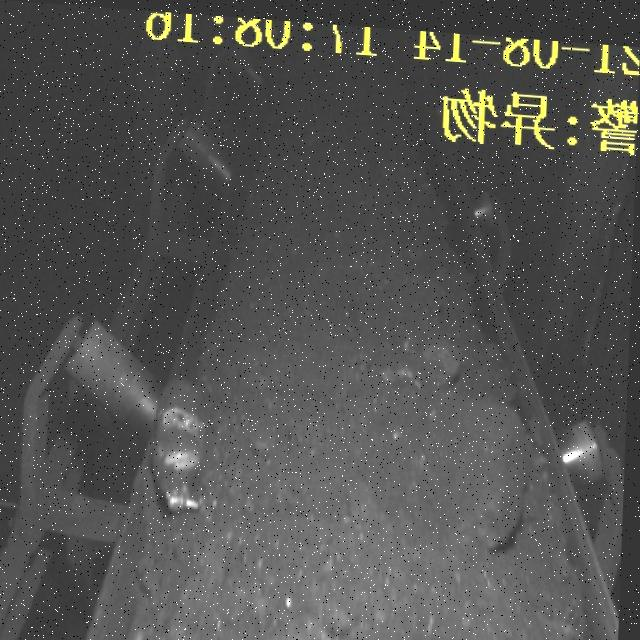Other_garbage: (151, 374, 217, 510)
large_sized_coal: (446, 388, 536, 542), (423, 328, 466, 379)
